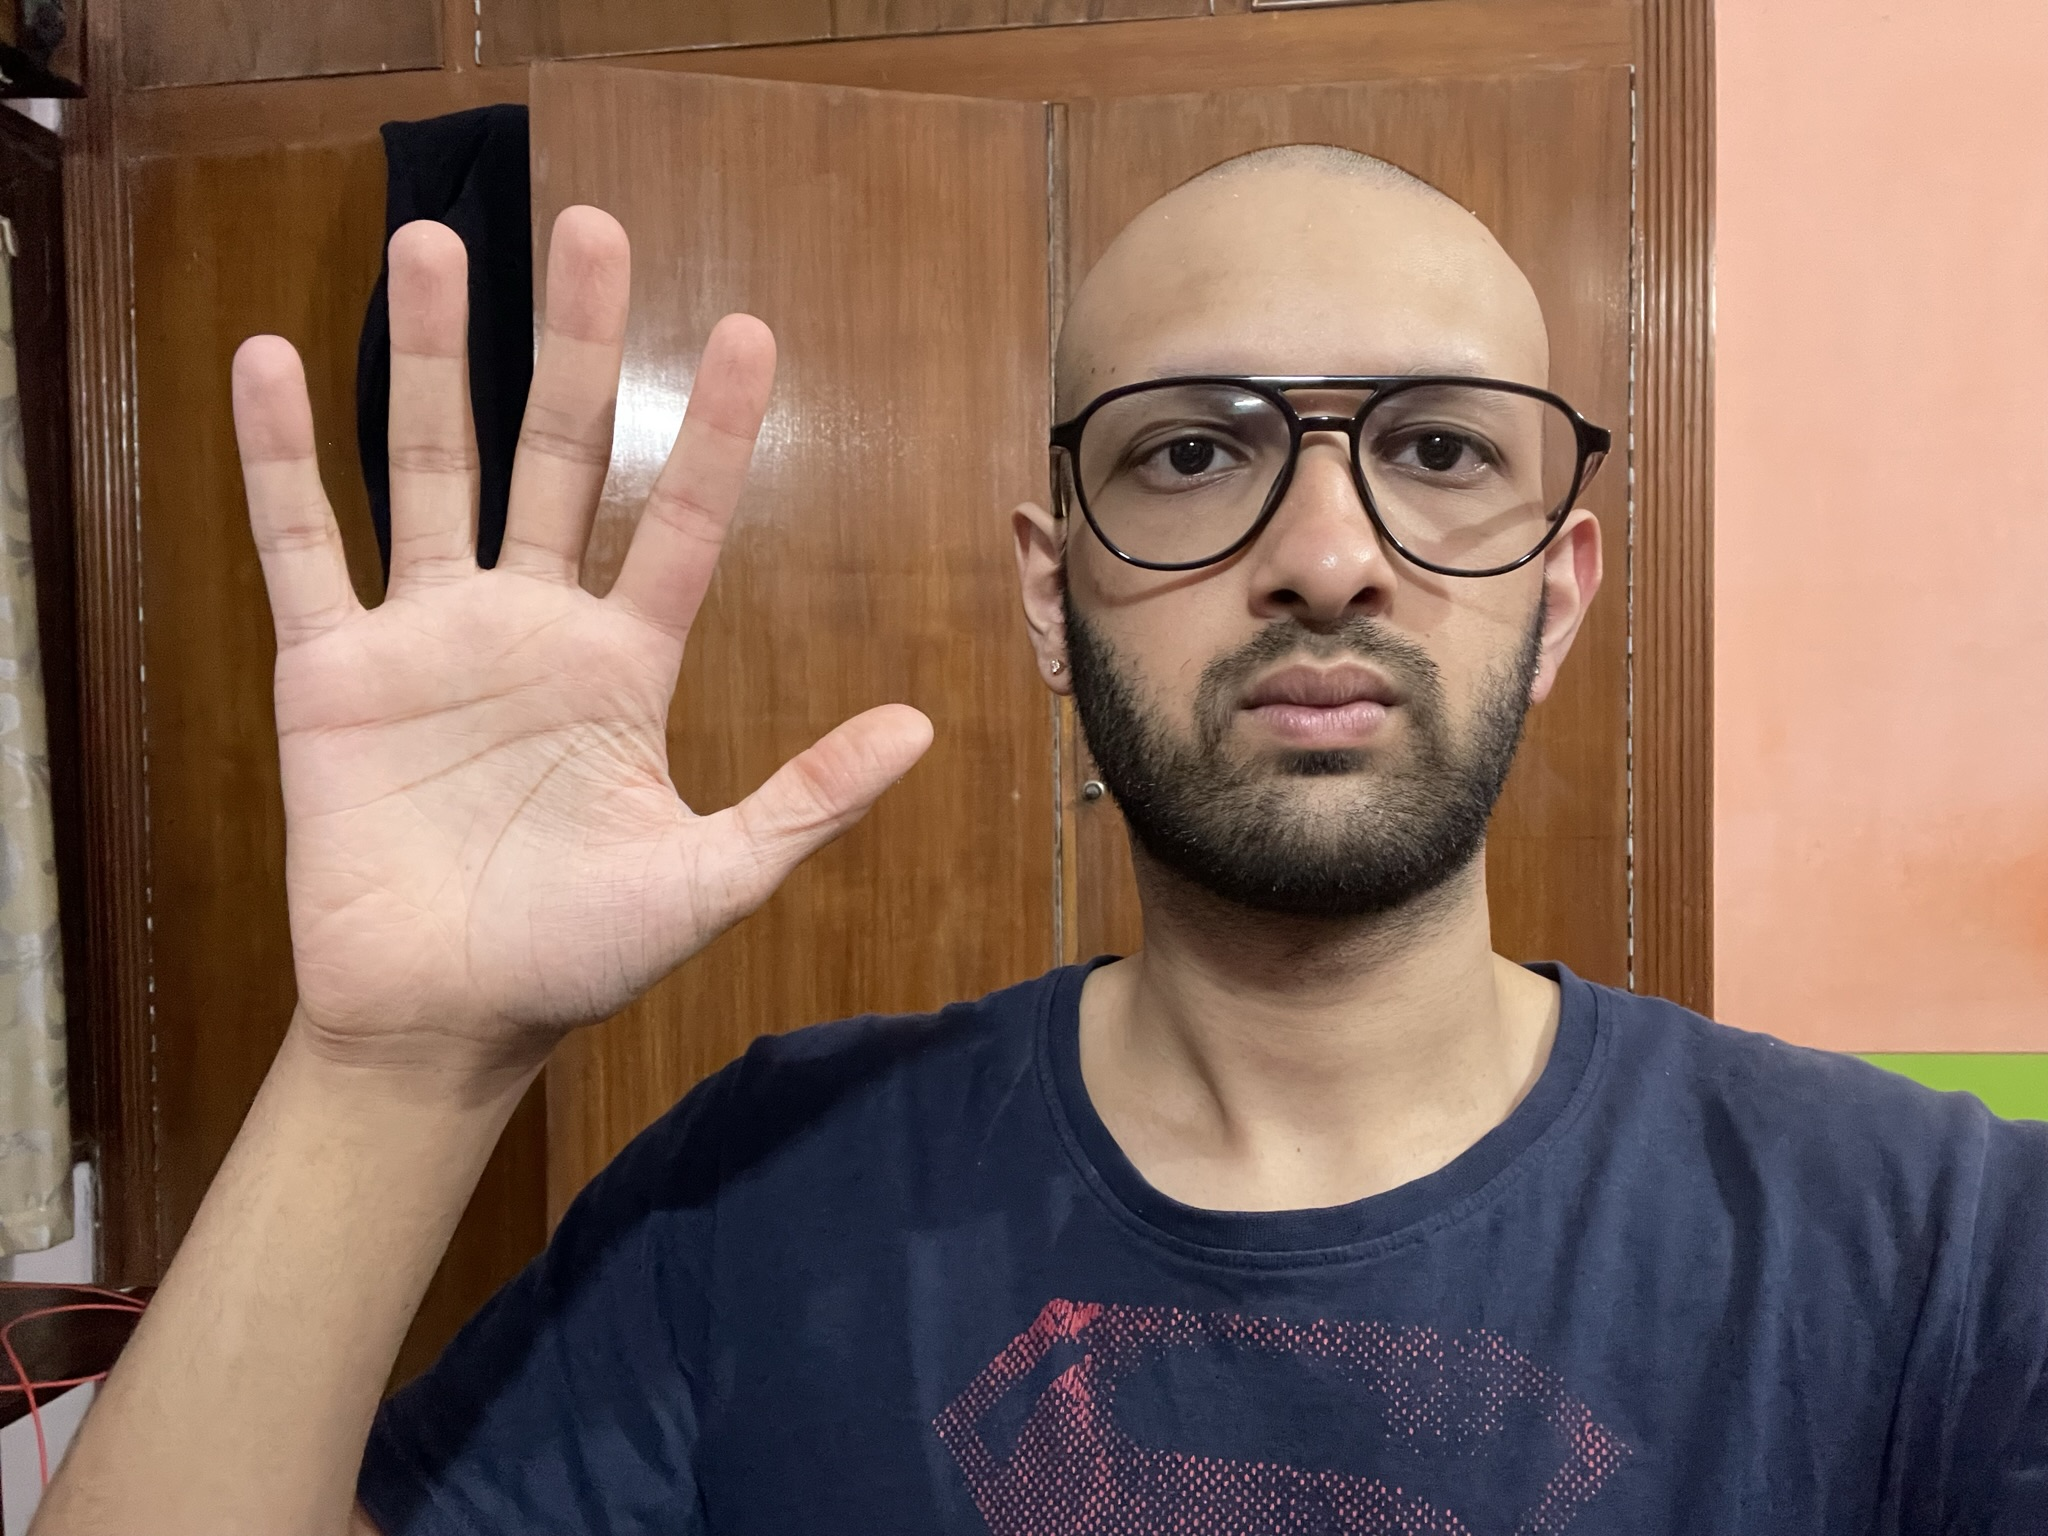Hello: (218, 202, 940, 1079)
